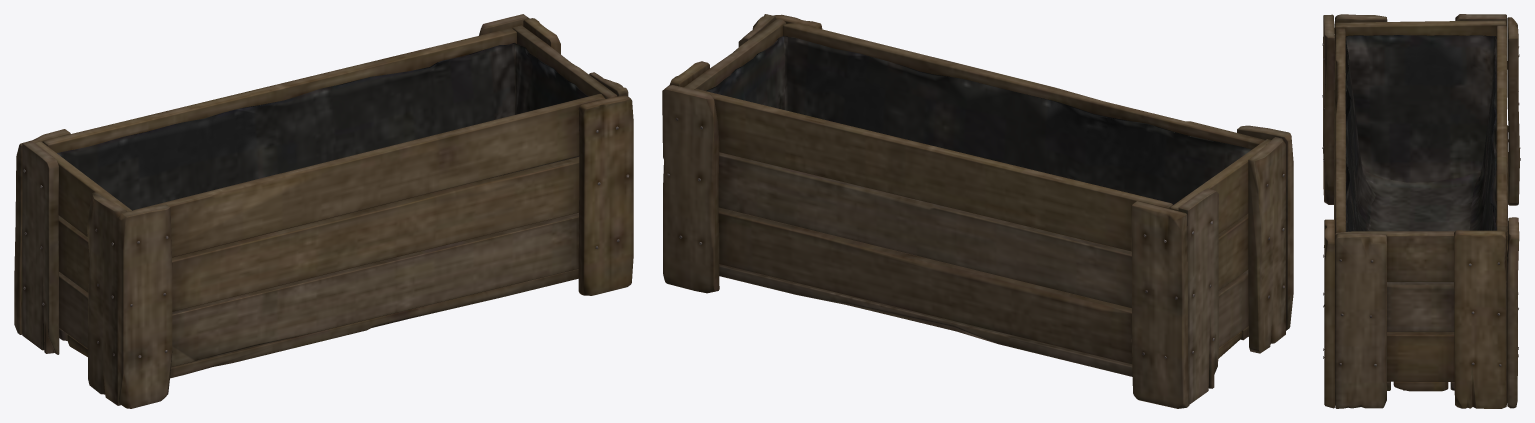
The model's file is planter_box_02.gltf.
3 renders of one model, left to right at view 1: azimuth 30°, elevation 25°; view 2: azimuth 150°, elevation 25°; view 3: azimuth 270°, elevation 25°, orthographic. The views are drawn at different scales.
Parts seen in each view (by area): view 1: planter_box_02; view 2: planter_box_02; view 3: planter_box_02.
Part boxes in pixels (<box>): planter_box_02: <box>14,14,633,408</box>; planter_box_02: <box>662,14,1293,408</box>; planter_box_02: <box>1322,14,1520,408</box>.
Size of the model in its own units: 1.25 by 0.4534 by 0.4672.
1 material, 1 textured.
